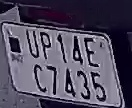1: (55, 34, 69, 64)
3: (76, 69, 93, 104)
4: (60, 67, 77, 99), (69, 33, 84, 67)
5: (89, 69, 110, 104)
7: (45, 62, 60, 95)
C: (30, 63, 48, 94)
E: (84, 35, 101, 69)
P: (39, 30, 53, 61)
U: (24, 28, 41, 61)
